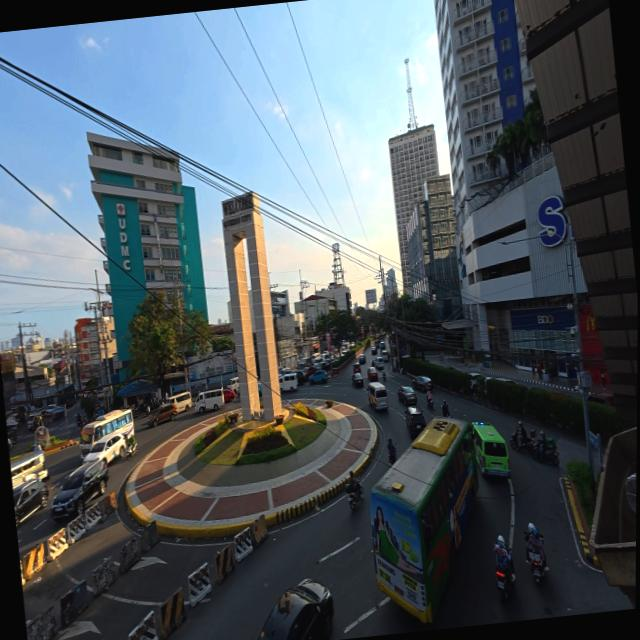Jeepneys: (11, 450, 49, 487)
bus: (371, 418, 478, 622), (81, 410, 134, 457)
car: (258, 579, 334, 639), (51, 461, 108, 520), (13, 480, 48, 529), (85, 434, 126, 463), (143, 402, 179, 428), (405, 406, 426, 438), (398, 386, 417, 406), (589, 392, 614, 406), (470, 372, 484, 392), (413, 376, 431, 391), (309, 369, 328, 383), (28, 413, 42, 430), (295, 370, 307, 385), (223, 388, 235, 403), (7, 428, 17, 445), (352, 373, 364, 387), (305, 366, 316, 380), (495, 377, 516, 384), (368, 367, 378, 381), (374, 357, 384, 369), (320, 361, 331, 371), (353, 362, 360, 373), (359, 354, 366, 364), (379, 341, 386, 351), (258, 383, 262, 397), (8, 438, 13, 449), (372, 347, 377, 355)
motorcycle: (532, 439, 560, 465), (527, 544, 545, 584), (496, 565, 513, 599), (511, 429, 536, 452), (346, 483, 363, 510), (127, 442, 137, 460), (389, 449, 397, 465), (427, 398, 433, 409), (77, 418, 83, 428), (382, 370, 386, 382)
vans: (472, 422, 511, 477), (195, 389, 224, 413), (368, 382, 389, 411), (168, 392, 193, 412), (279, 373, 298, 393), (230, 377, 239, 394), (381, 344, 389, 362), (374, 357, 384, 369), (379, 341, 386, 351)
